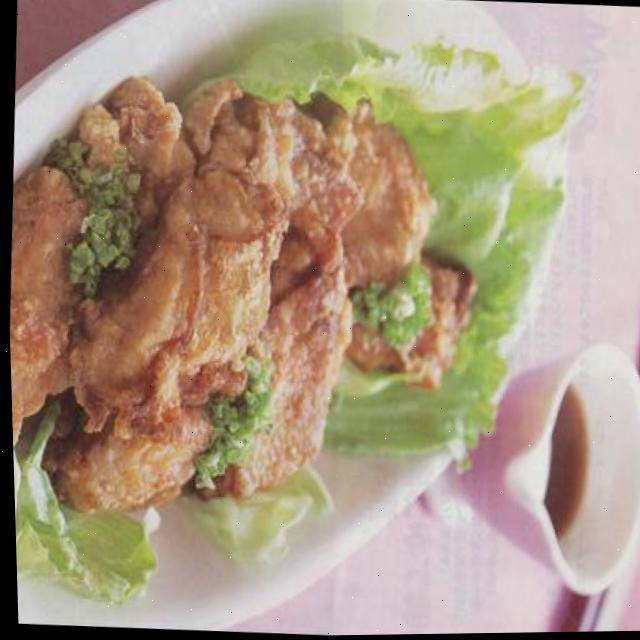鸡肉料理 含炸鸡: (1, 31, 519, 622)
